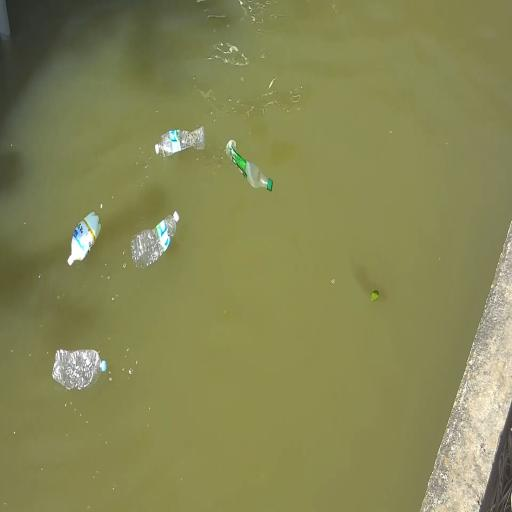plastic: (131, 211, 179, 267), (226, 140, 272, 191), (53, 350, 106, 389), (68, 211, 102, 266), (155, 127, 204, 156)
